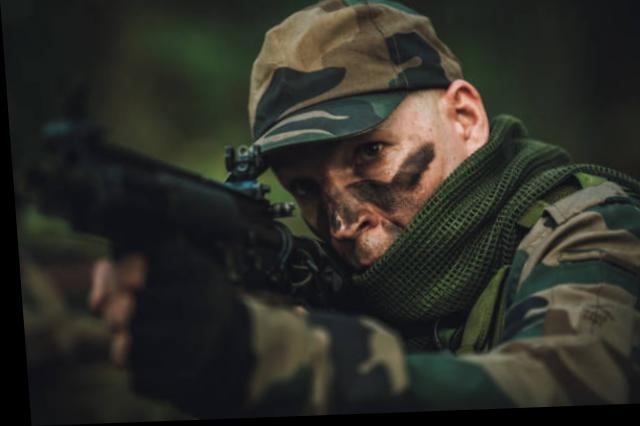other: (97, 0, 640, 421)
